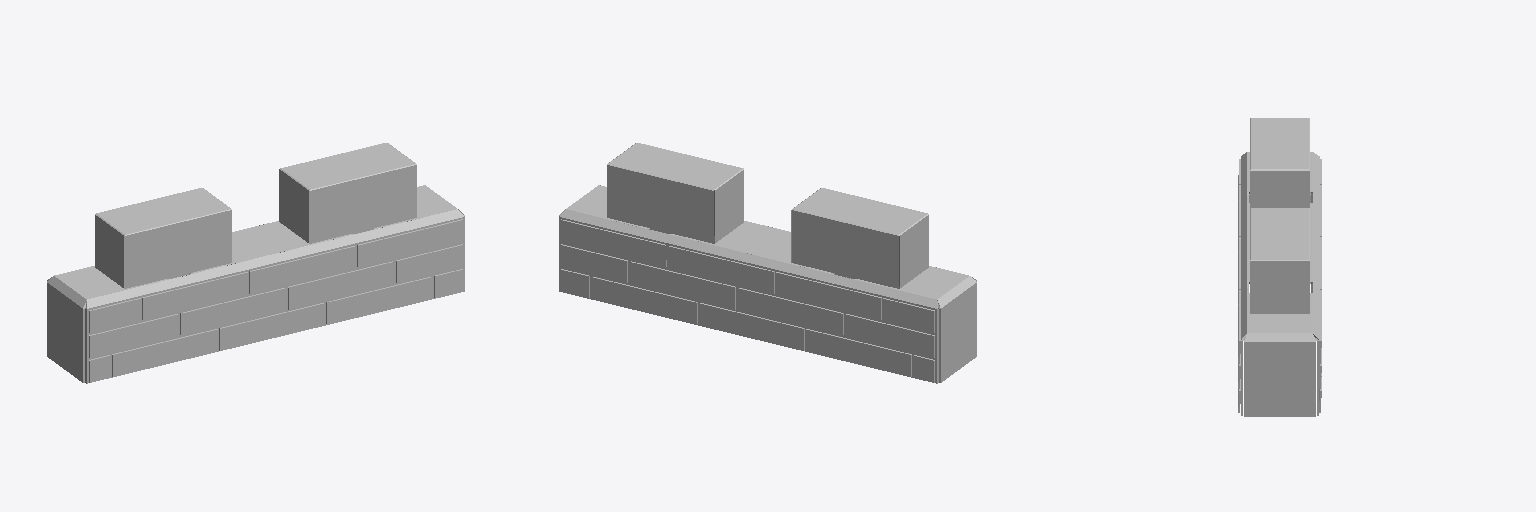
The model's file is brick_wall.obj.
3 renders of one model, left to right at view 1: azimuth 30°, elevation 25°; view 2: azimuth 150°, elevation 25°; view 3: azimuth 270°, elevation 25°, orthographic.
Parts seen in each view (by area): view 1: Wall; view 2: Wall; view 3: Wall.
Boxes of the visible parts, <box> form: Wall: <box>47,143,464,383</box>; Wall: <box>559,143,976,383</box>; Wall: <box>1238,118,1321,416</box>.
Bounding box in the file's own units: 0.852 × 0.2869 × 0.1603.